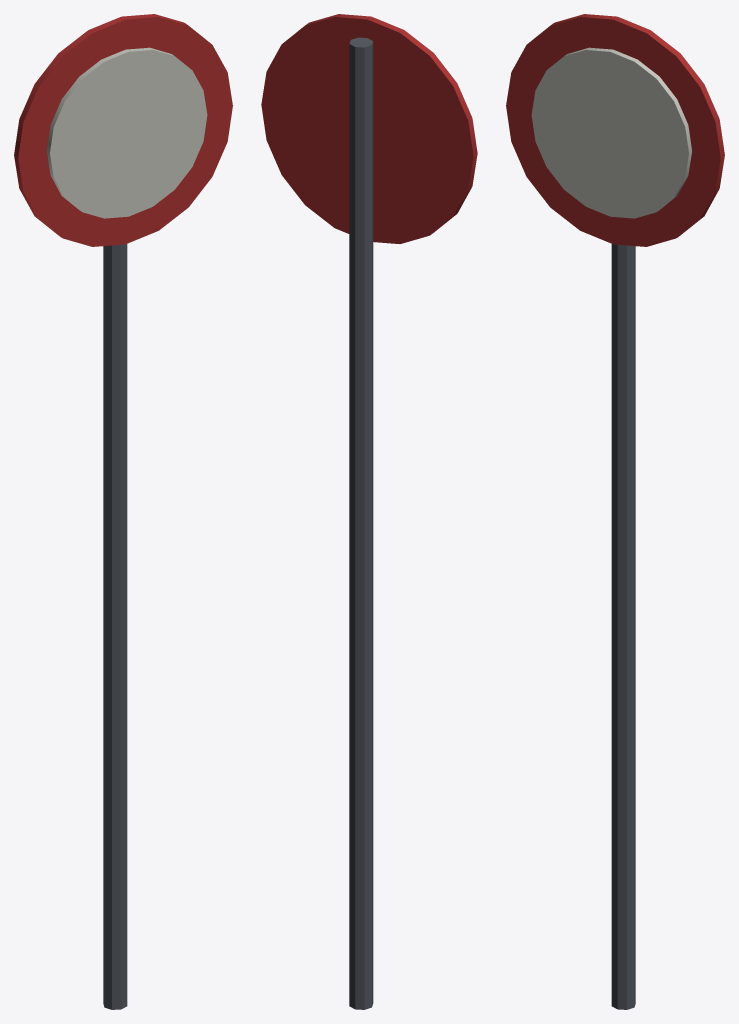
The model's file is sign_speed.glb.
3 renders of one model, left to right at view 1: azimuth 30°, elevation 25°; view 2: azimuth 150°, elevation 25°; view 3: azimuth 330°, elevation 25°, orthographic.
Visible parts, largest first — view 1: sign_speed_mesh; view 2: sign_speed_mesh; view 3: sign_speed_mesh.
Boxes of the visible parts, box(x1,y1,x2,y2) form: sign_speed_mesh: box(14, 14, 232, 1009); sign_speed_mesh: box(261, 14, 477, 1009); sign_speed_mesh: box(506, 14, 724, 1009).
Size of what is drawn, in the model's own units: 0.6 by 2.65 by 0.095.
